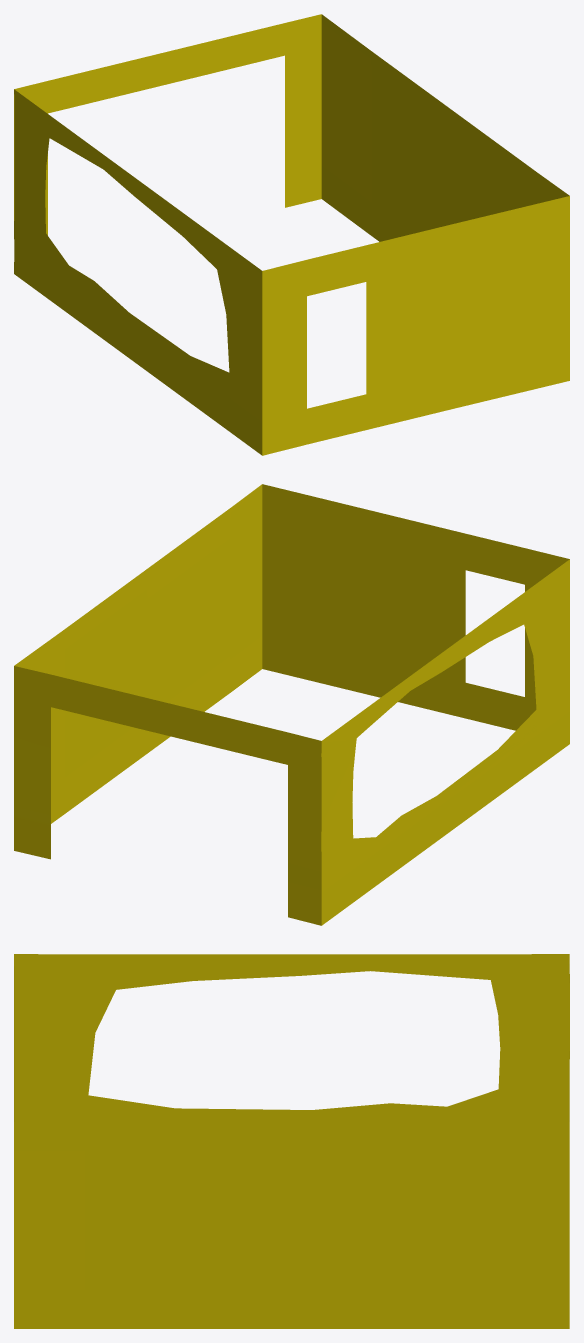
File: BH04B_Wall_Int_09_Break.fbx
3 views of the same model, one above another, from view 1: azimuth 30°, elevation 25°; view 2: azimuth 150°, elevation 25°; view 3: azimuth 270°, elevation 25° (orthographic). The views are drawn at different scales.
Visible parts, largest first — view 1: BH04B_Wall_Int_09_Break; view 2: BH04B_Wall_Int_09_Break; view 3: BH04B_Wall_Int_09_Break.
Part boxes in pixels (box(x1,y1,x2,y2)): BH04B_Wall_Int_09_Break: box(14, 14, 569, 455); BH04B_Wall_Int_09_Break: box(14, 484, 569, 925); BH04B_Wall_Int_09_Break: box(14, 954, 569, 1328).
Bounding box in the file's own units: 636 × 366 × 890.
